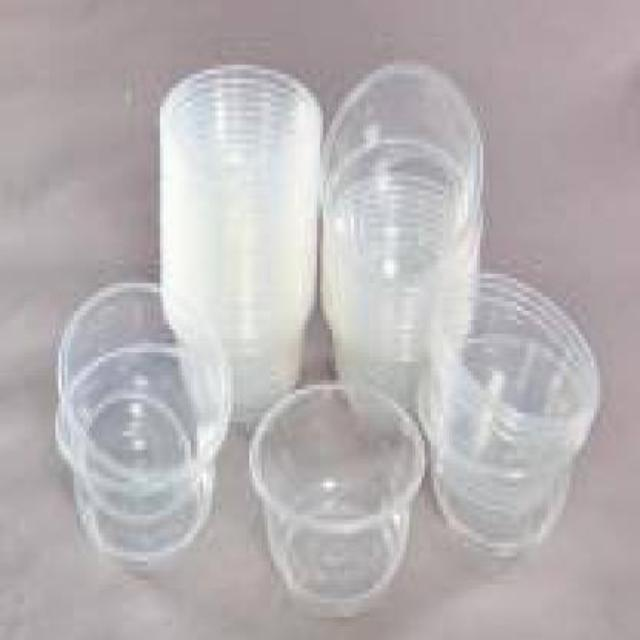plastic_cup_lid: (147, 66, 593, 560), (49, 283, 223, 562), (249, 381, 421, 611)
